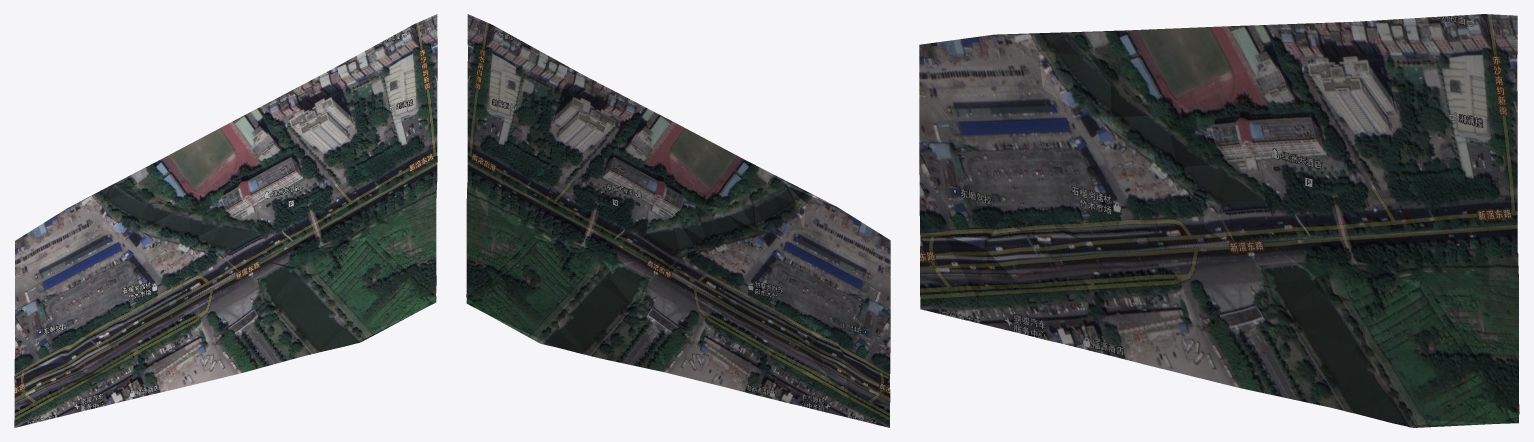
The picture shows the model from 3 angles, left to right: view 1: azimuth 30°, elevation 25°; view 2: azimuth 150°, elevation 25°; view 3: azimuth 330°, elevation 25°; orthographic projection. The views are drawn at different scales.
Visible parts, largest first — view 1: 0_2_1_2_3_3; view 2: 0_2_1_2_3_3; view 3: 0_2_1_2_3_3.
Part boxes in pixels (left/top/right/bottom): 0_2_1_2_3_3: left=14, top=14, right=437, bottom=427; 0_2_1_2_3_3: left=466, top=14, right=890, bottom=427; 0_2_1_2_3_3: left=919, top=14, right=1519, bottom=427.
Size of the model in its own units: 486 by 342 by 8.07.
Materials: 1 (1 with a texture image).
